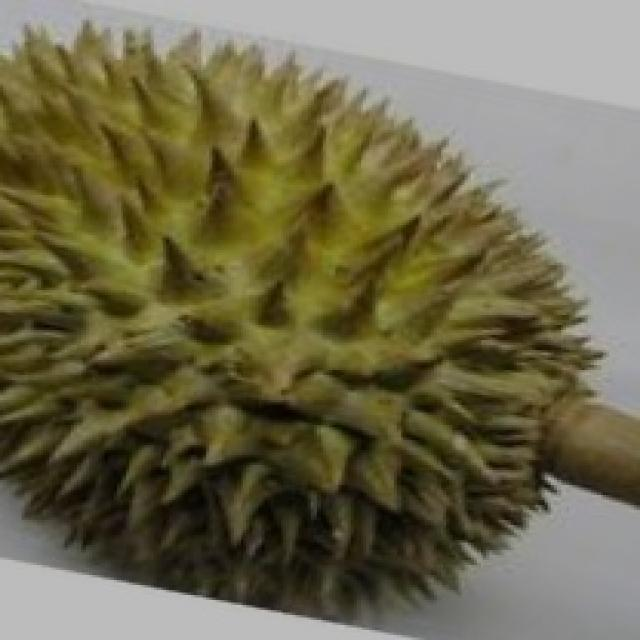fruit: (243, 225, 640, 637), (0, 242, 375, 617)
